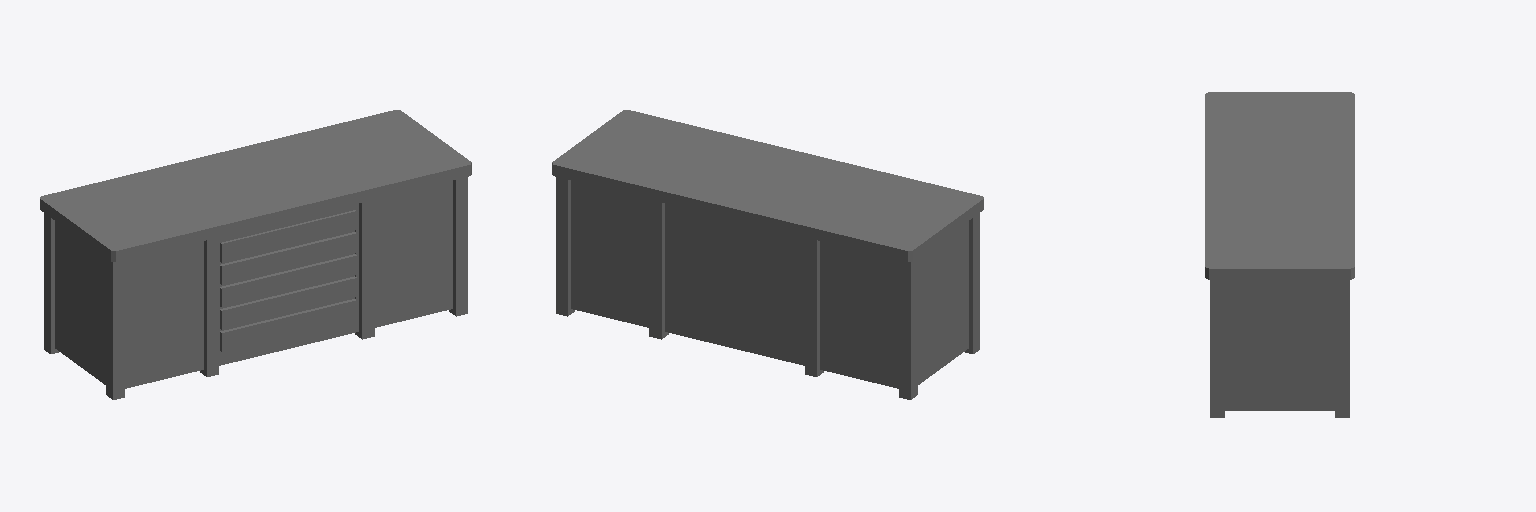
The model's file is Gimmick_Drawer_Test.obj.
3 renders of one model, left to right at view 1: azimuth 30°, elevation 25°; view 2: azimuth 150°, elevation 25°; view 3: azimuth 270°, elevation 25°, orthographic.
Parts seen in each view (by area): view 1: group1 pCube1, group1 pCube12, pCube14 group2, group2 pCube15, group2 pCube13, group2 pCube16, group2 pCube17, group1 pCube3, group1 pCube11, group1 pCube5, group1 pCube8, pCube4 group1; view 2: group1 pCube12, group1 pCube1, pCube4 group1, group1 pCube9, group1 pCube7, group1 pCube6, group1 pCube3; view 3: group1 pCube1, group1 pCube12, group1 pCube6, group1 pCube5.
Boxes of the visible parts, x1=… form: group1 pCube1: x1=40, y1=110, x2=471, y2=261; group1 pCube12: x1=55, y1=180, x2=452, y2=388; pCube14 group2: x1=220, y1=276, x2=356, y2=329; group2 pCube15: x1=220, y1=254, x2=356, y2=306; group2 pCube13: x1=220, y1=299, x2=356, y2=351; group2 pCube16: x1=220, y1=232, x2=356, y2=284; group2 pCube17: x1=220, y1=210, x2=356, y2=262; group1 pCube3: x1=106, y1=259, x2=124, y2=399; group1 pCube11: x1=355, y1=199, x2=374, y2=339; group1 pCube5: x1=449, y1=177, x2=467, y2=316; group1 pCube8: x1=200, y1=238, x2=218, y2=376; pCube4 group1: x1=44, y1=213, x2=58, y2=353; group1 pCube12: x1=571, y1=180, x2=968, y2=388; group1 pCube1: x1=552, y1=110, x2=983, y2=261; pCube4 group1: x1=899, y1=259, x2=917, y2=399; group1 pCube9: x1=649, y1=199, x2=668, y2=339; group1 pCube7: x1=805, y1=238, x2=823, y2=376; group1 pCube6: x1=556, y1=177, x2=574, y2=316; group1 pCube3: x1=965, y1=213, x2=979, y2=353; group1 pCube1: x1=1205, y1=92, x2=1354, y2=279; group1 pCube12: x1=1225, y1=280, x2=1334, y2=410; group1 pCube6: x1=1335, y1=280, x2=1349, y2=417; group1 pCube5: x1=1210, y1=280, x2=1224, y2=417.
Bounding box in the file's own units: 200 × 80 × 72.